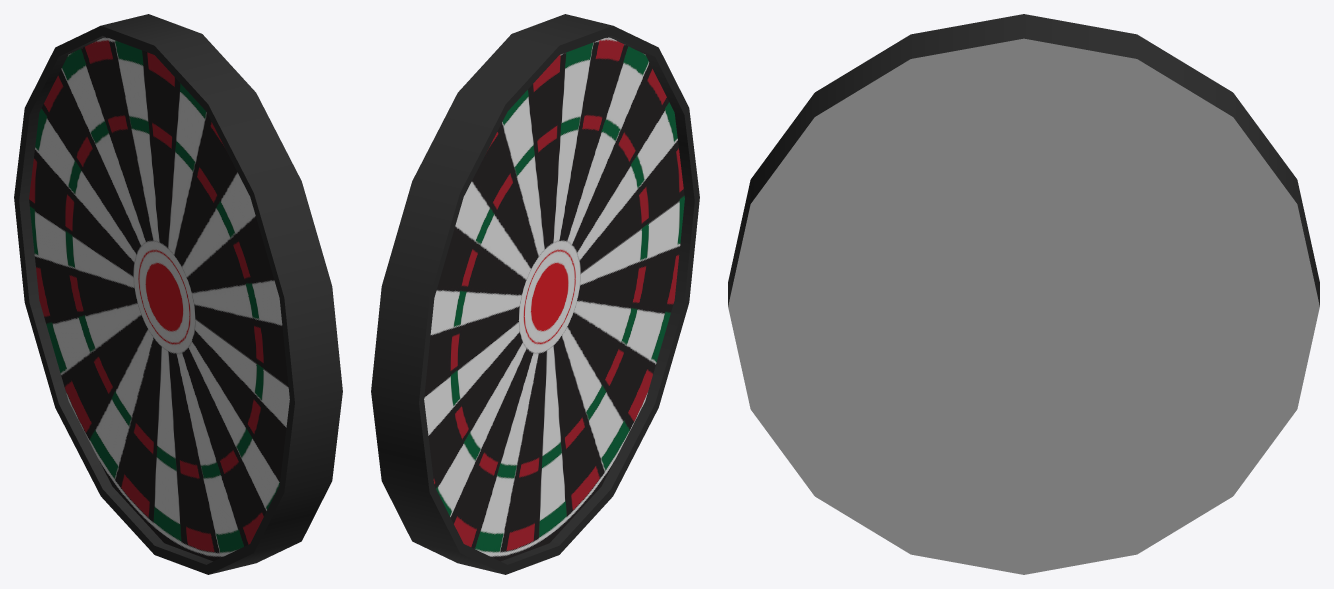
The model's file is arrow board.fbx.
3 renders of one model, left to right at view 1: azimuth 30°, elevation 25°; view 2: azimuth 150°, elevation 25°; view 3: azimuth 270°, elevation 25°, orthographic. The views are drawn at different scales.
Visible parts, largest first — view 1: pasted__board; view 2: pasted__board; view 3: pasted__board.
Boxes of the visible parts, left/top/right/bottom form: pasted__board: left=14, top=14, right=342, bottom=574; pasted__board: left=371, top=14, right=699, bottom=574; pasted__board: left=728, top=14, right=1319, bottom=574.
Bounding box in the file's own units: 11.16 × 113 × 113.
3 materials, 1 textured.
